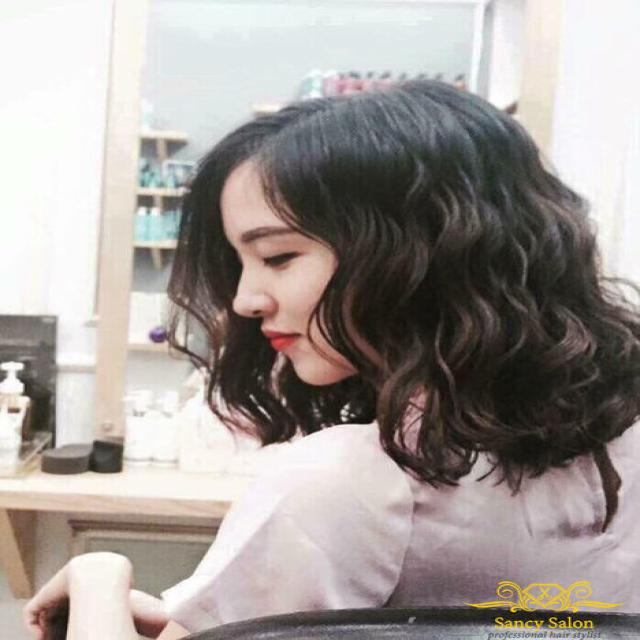Nonhelmet: (164, 68, 594, 438)
